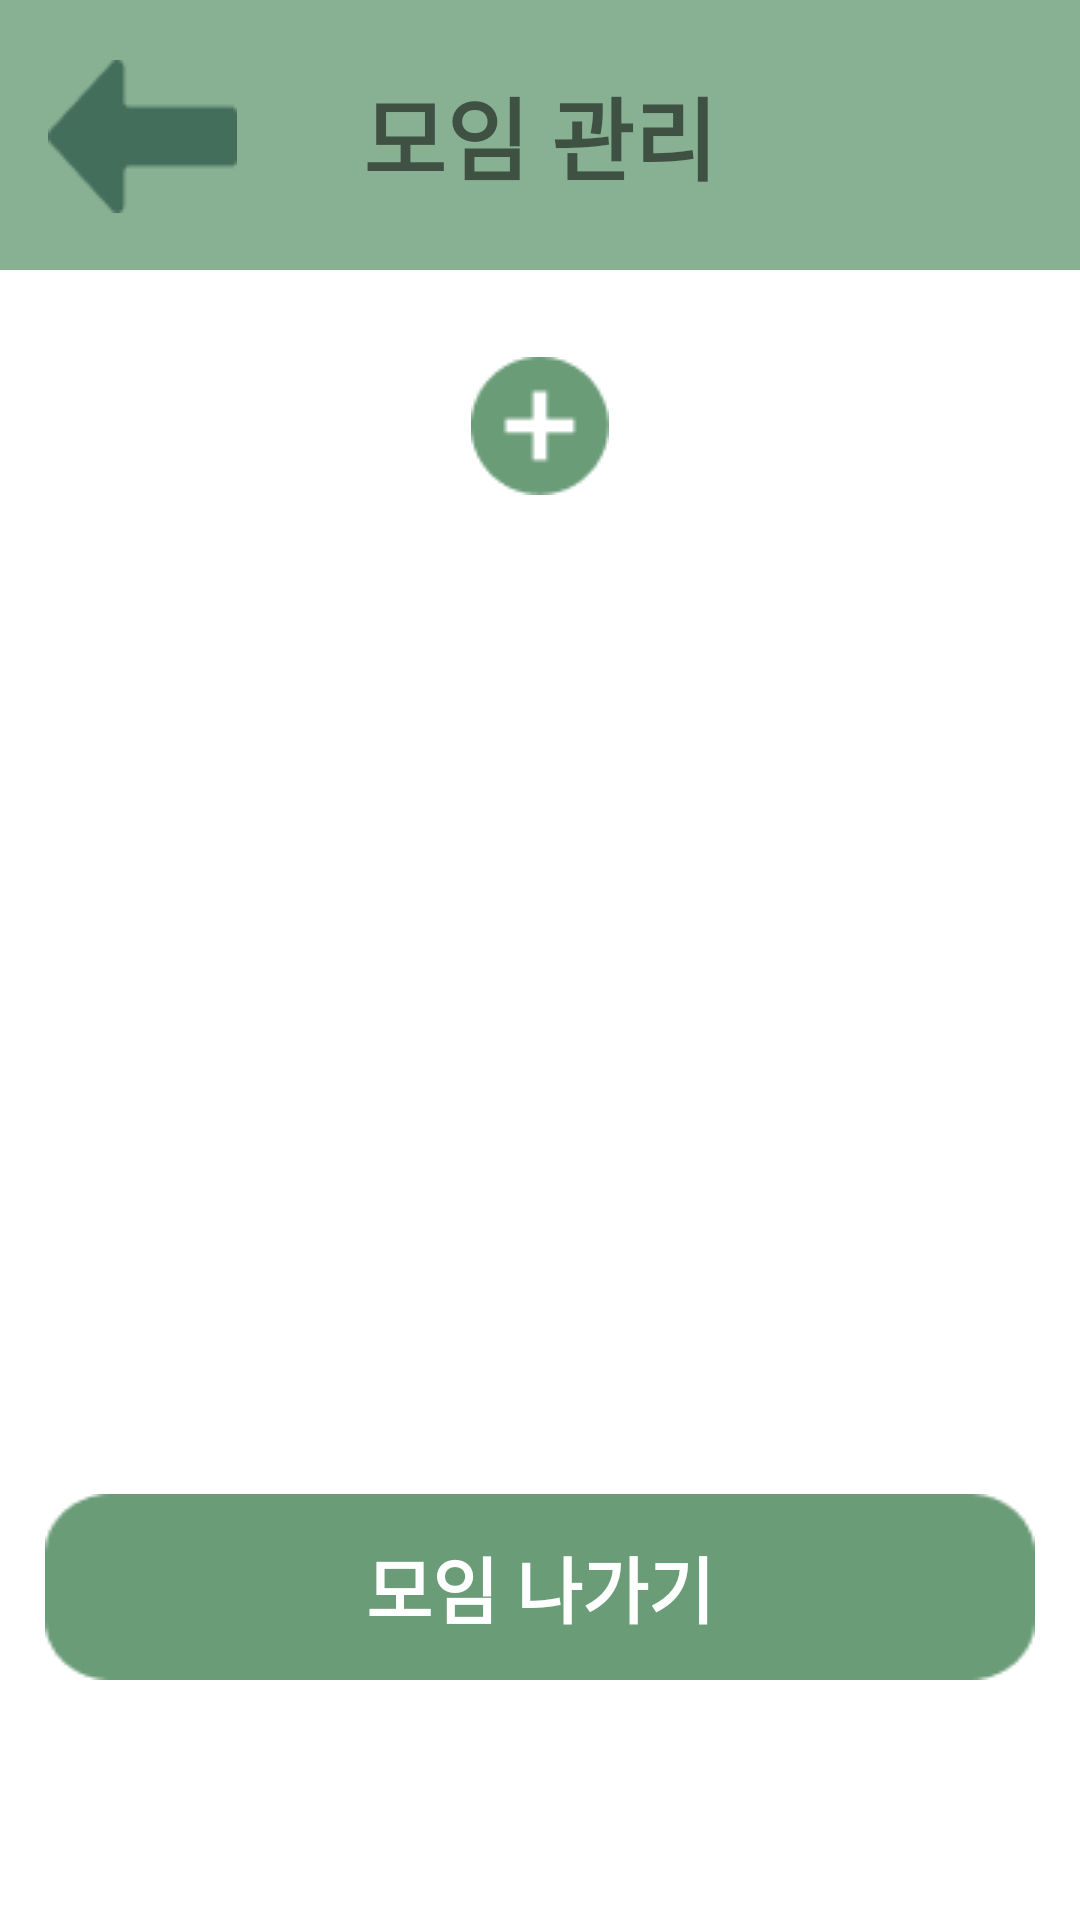

Icons on this 1080 × 1920 Android screen, each with its box as (x1, y1, x2, y2):
back 버튼: (48, 60, 237, 213)
지출 추가: (471, 357, 609, 495)
